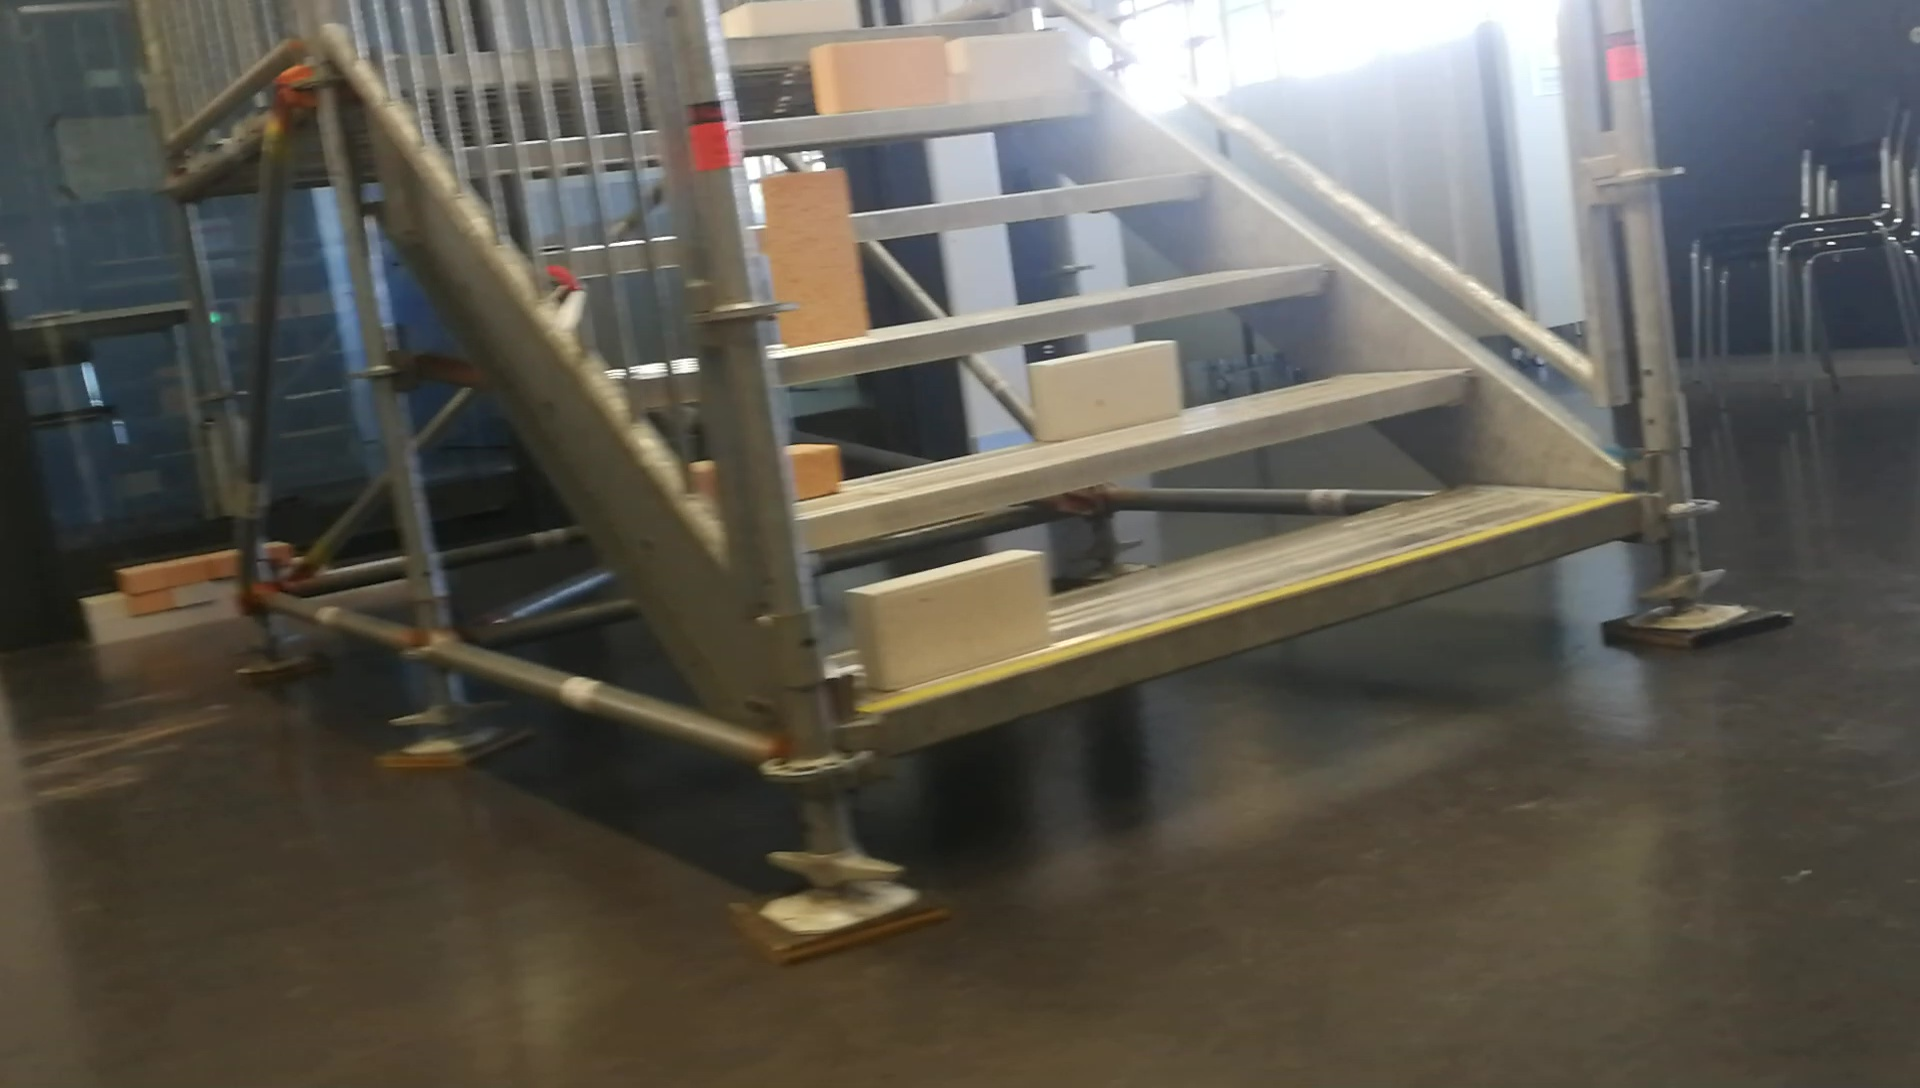brick: (725, 0, 1793, 979), (851, 550, 1046, 694), (765, 171, 865, 346), (1033, 342, 1180, 440), (812, 33, 945, 109), (948, 33, 1071, 100), (787, 440, 837, 502)
edge: (884, 493, 1635, 756), (800, 369, 1468, 550), (770, 262, 1335, 386), (746, 170, 1205, 251), (742, 83, 1098, 148)
